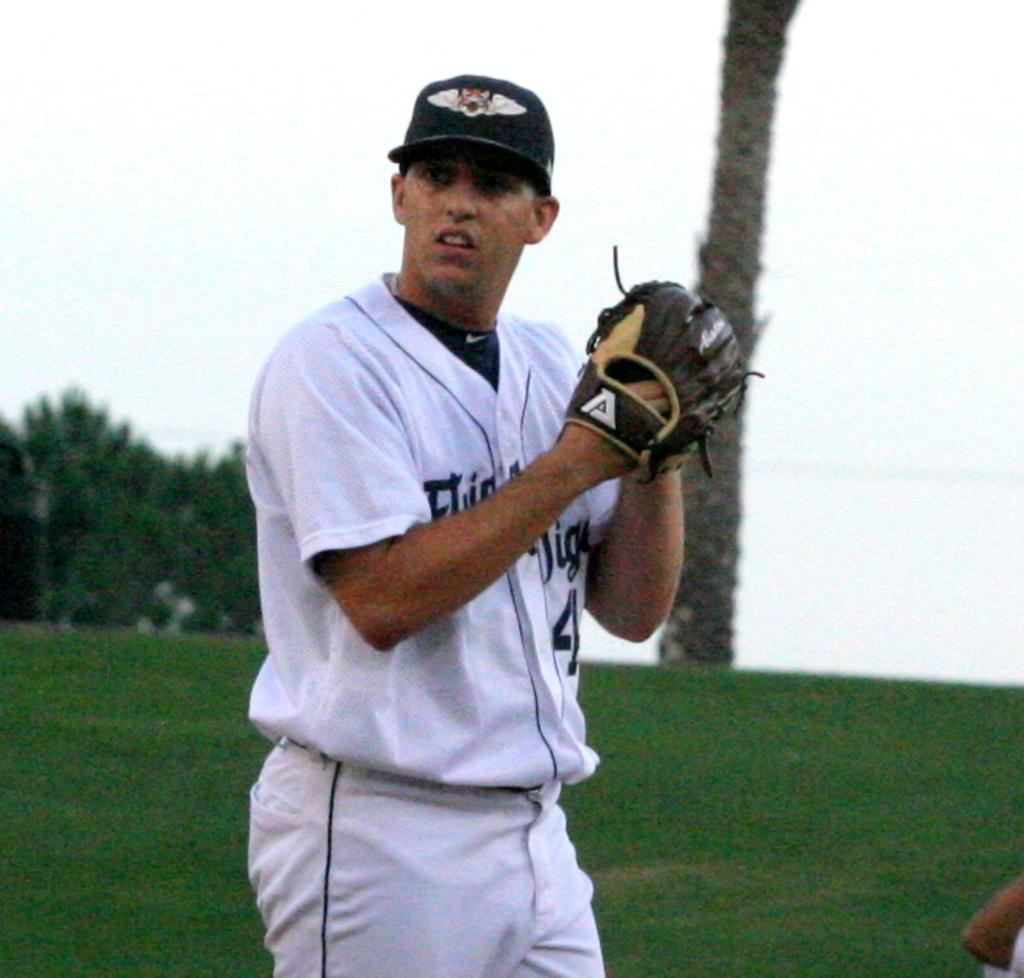Hat: (388, 70, 558, 196)
